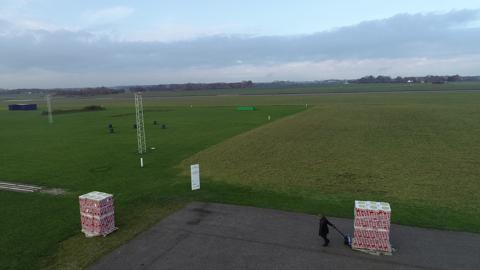RockwoolPallet: (352, 199, 392, 253)
